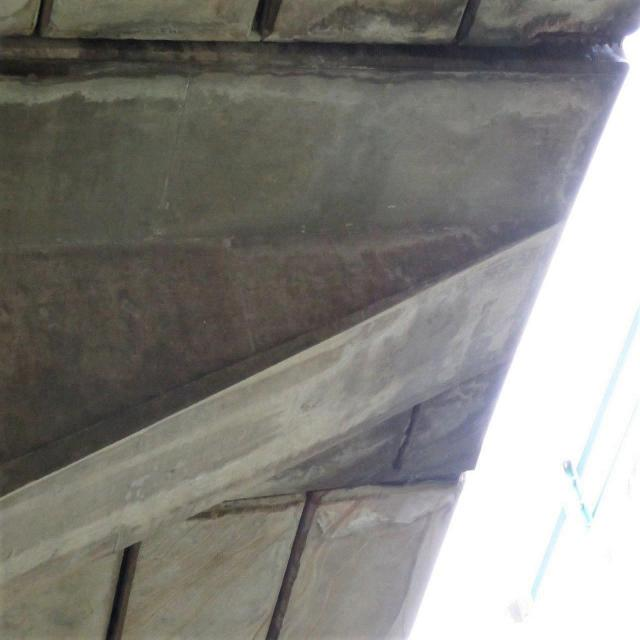concrete spalling: (392, 401, 420, 472)
